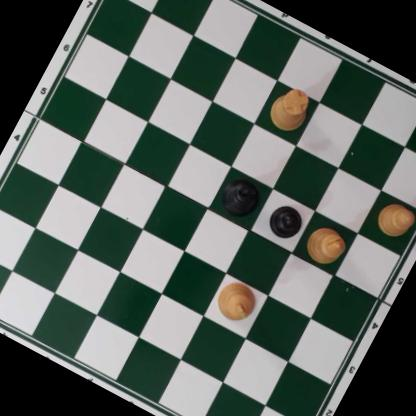black-king: (213, 171, 268, 225)
black-pawn: (264, 198, 308, 243)
black-rook: (413, 96, 416, 156)
white-bishop: (299, 219, 353, 272)
white-king: (208, 273, 264, 328)
white-pawn: (371, 195, 416, 244)
white-rook: (264, 83, 316, 137)
